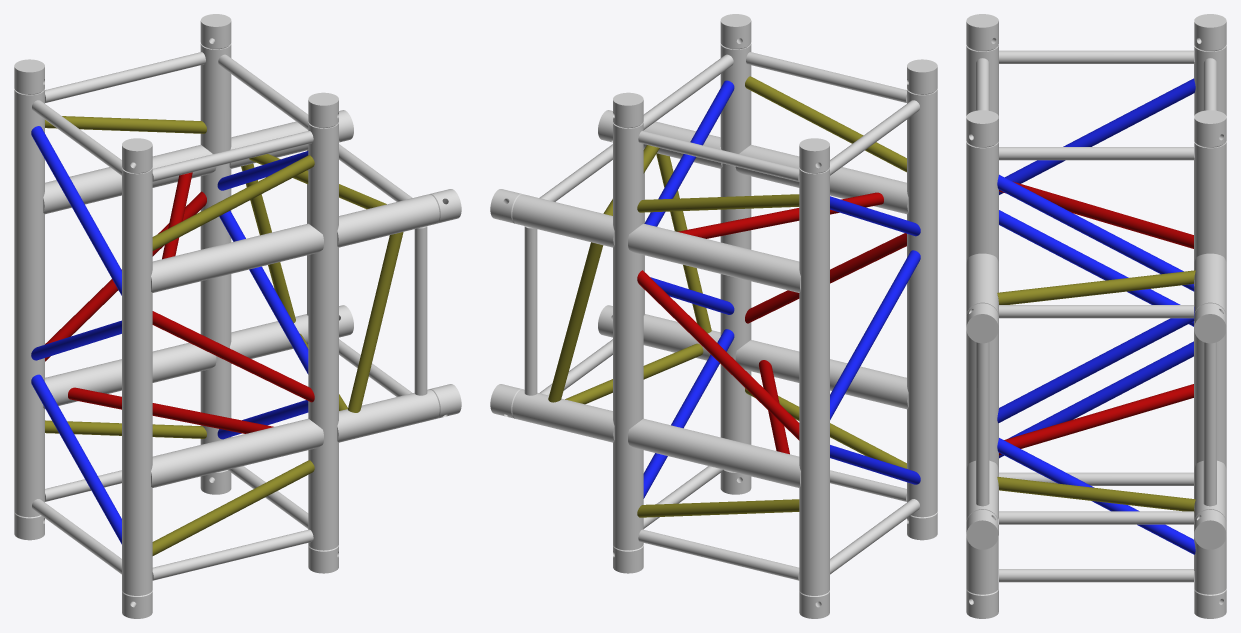
3 views of the same model, side by side, from view 1: azimuth 30°, elevation 25°; view 2: azimuth 150°, elevation 25°; view 3: azimuth 270°, elevation 25° (orthographic). The views are drawn at different scales.
Parts seen in each view (by area): view 1: 260028382; view 2: 260028382; view 3: 260028382.
Boxes of the visible parts, box(x1,y1,x2,y2) form: 260028382: box(14, 14, 461, 618); 260028382: box(490, 14, 937, 618); 260028382: box(966, 14, 1226, 618).
Size of the model in its own units: 0.6001 by 0.813 by 0.3873.
